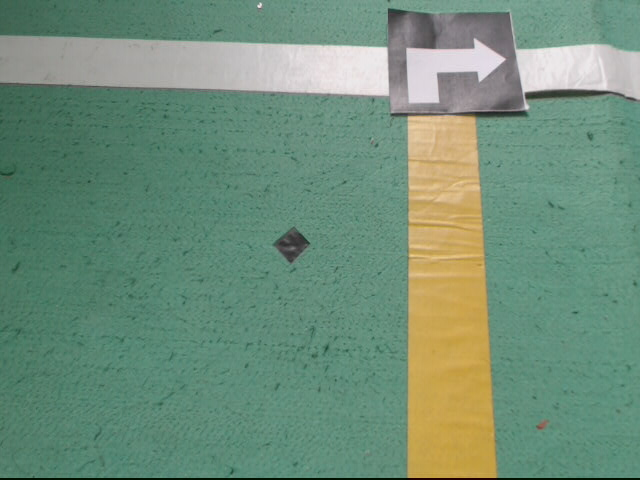right: (386, 8, 531, 115)
